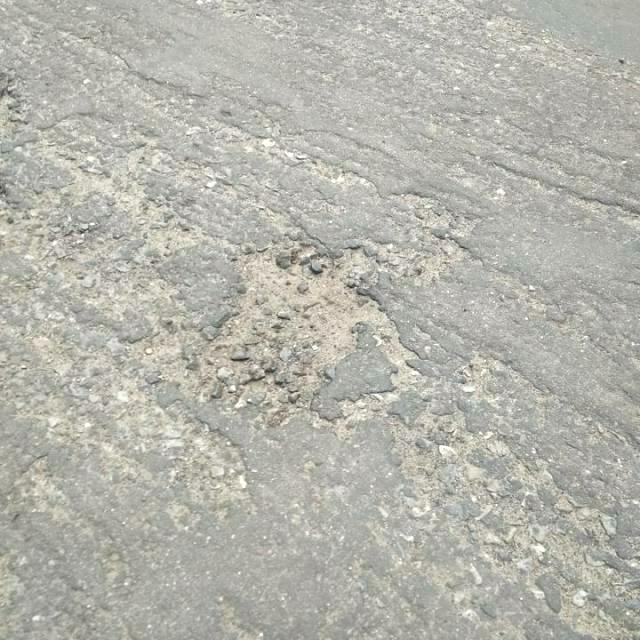Pothole: (199, 234, 398, 415)
